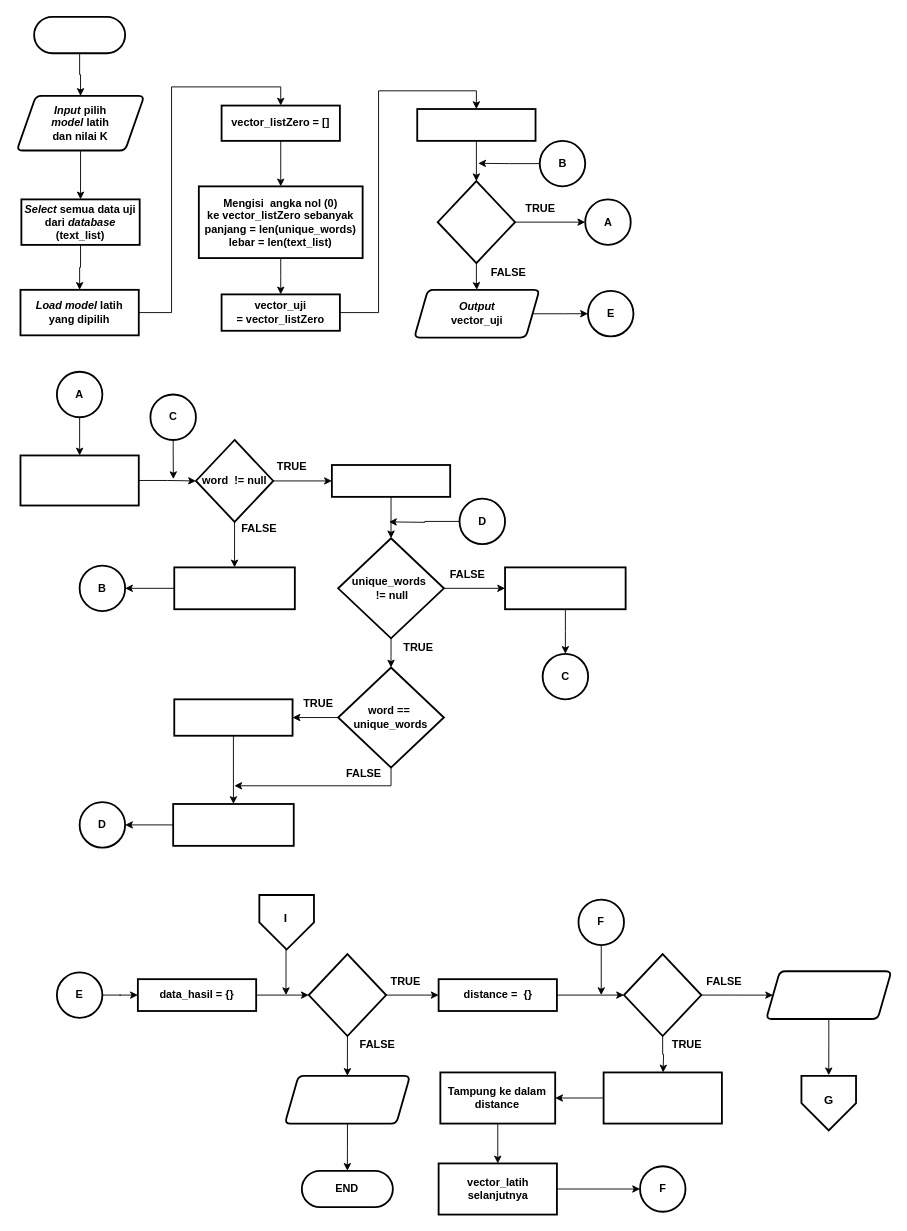
Some shapes in this 907 by 1231 pixel diagram are drawn without their labels. Here are the shapes that lost their labels. From the top down, the centre of each, then its label:
the point at 79,34: START
the point at 476,124: i = 0
the point at 476,222: text_list != null
the point at 79,480: Pecah menjadi satuan kata (word)
the point at 391,480: j = 0
the point at 234,588: text_list selanjutnya i += 1
the point at 565,588: word selanjutnya
the point at 233,717: vector_uji [i][j] += 1
the point at 233,824: unique_words selanjutnya j += 1
the point at 347,994: vector_uji != null
the point at 662,994: vector_latih != null
the point at 828,994: Output Jarak tetangga (distance)
the point at 346,1099: Output Prediksi label data uji
the point at 662,1097: Hitung jarak menggunakan euclidean distance
